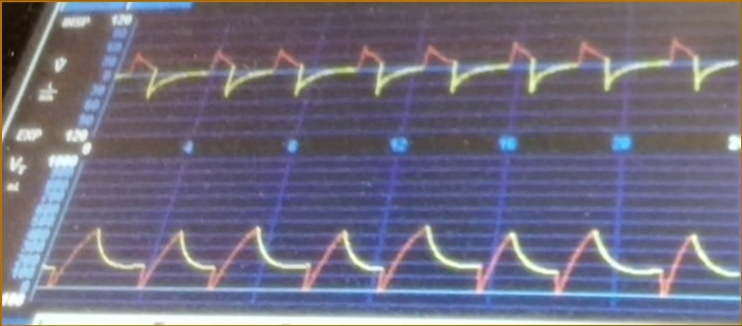Flow: (128, 31, 735, 130)
Leakage Volume: (62, 204, 737, 310)
